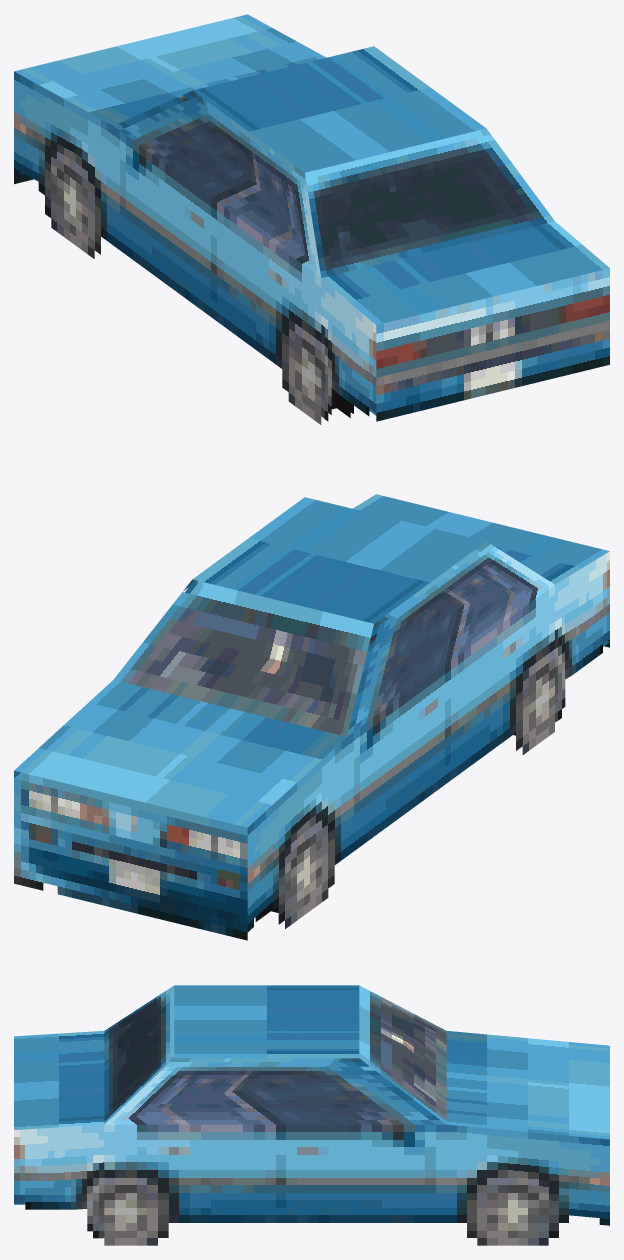
Rendered from car-sunbird-plt1.glb.
3 views of the same model, one above another, from view 1: azimuth 30°, elevation 25°; view 2: azimuth 150°, elevation 25°; view 3: azimuth 270°, elevation 25° (orthographic). The views are drawn at different scales.
Visible parts, largest first — view 1: car-sunbird-plt1; view 2: car-sunbird-plt1; view 3: car-sunbird-plt1.
Boxes of the visible parts, bbox=[...] form: car-sunbird-plt1: bbox=[14, 14, 609, 424]; car-sunbird-plt1: bbox=[14, 494, 609, 940]; car-sunbird-plt1: bbox=[14, 985, 609, 1245].
Bounding box in the file's own units: 1.69 × 1.48 × 4.53.
16 materials, 16 textured.
